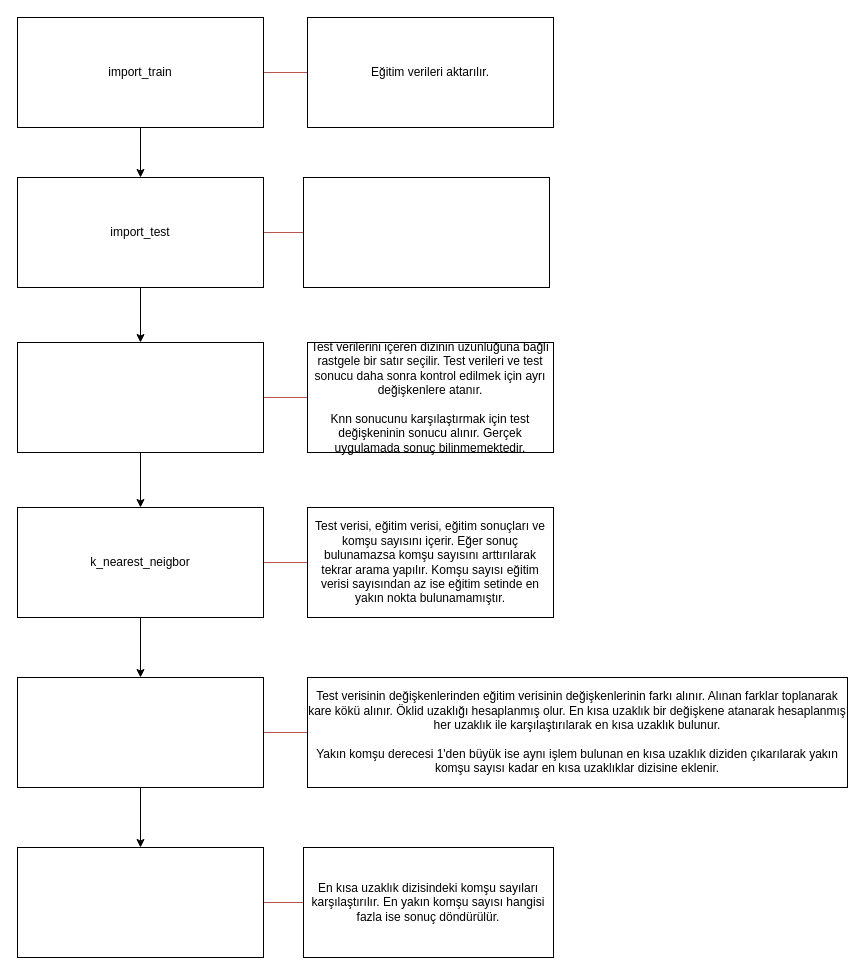
Some shapes in this 865 by 975 pixel diagram are drawn without their labels. The shapes that lost their labels are listed below. From the top down, each one's centre as x and y in pixels, then its label:
pixel 426 232: Test verileri aktarılır.
pixel 140 397: random_test_point
pixel 140 732: find_neigbor
pixel 140 902: most_found
